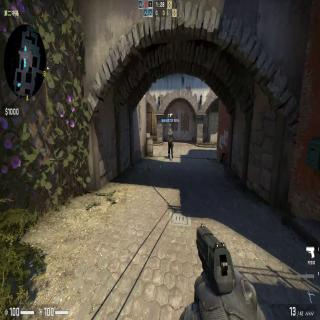CT-Body: (167, 128, 173, 159)
